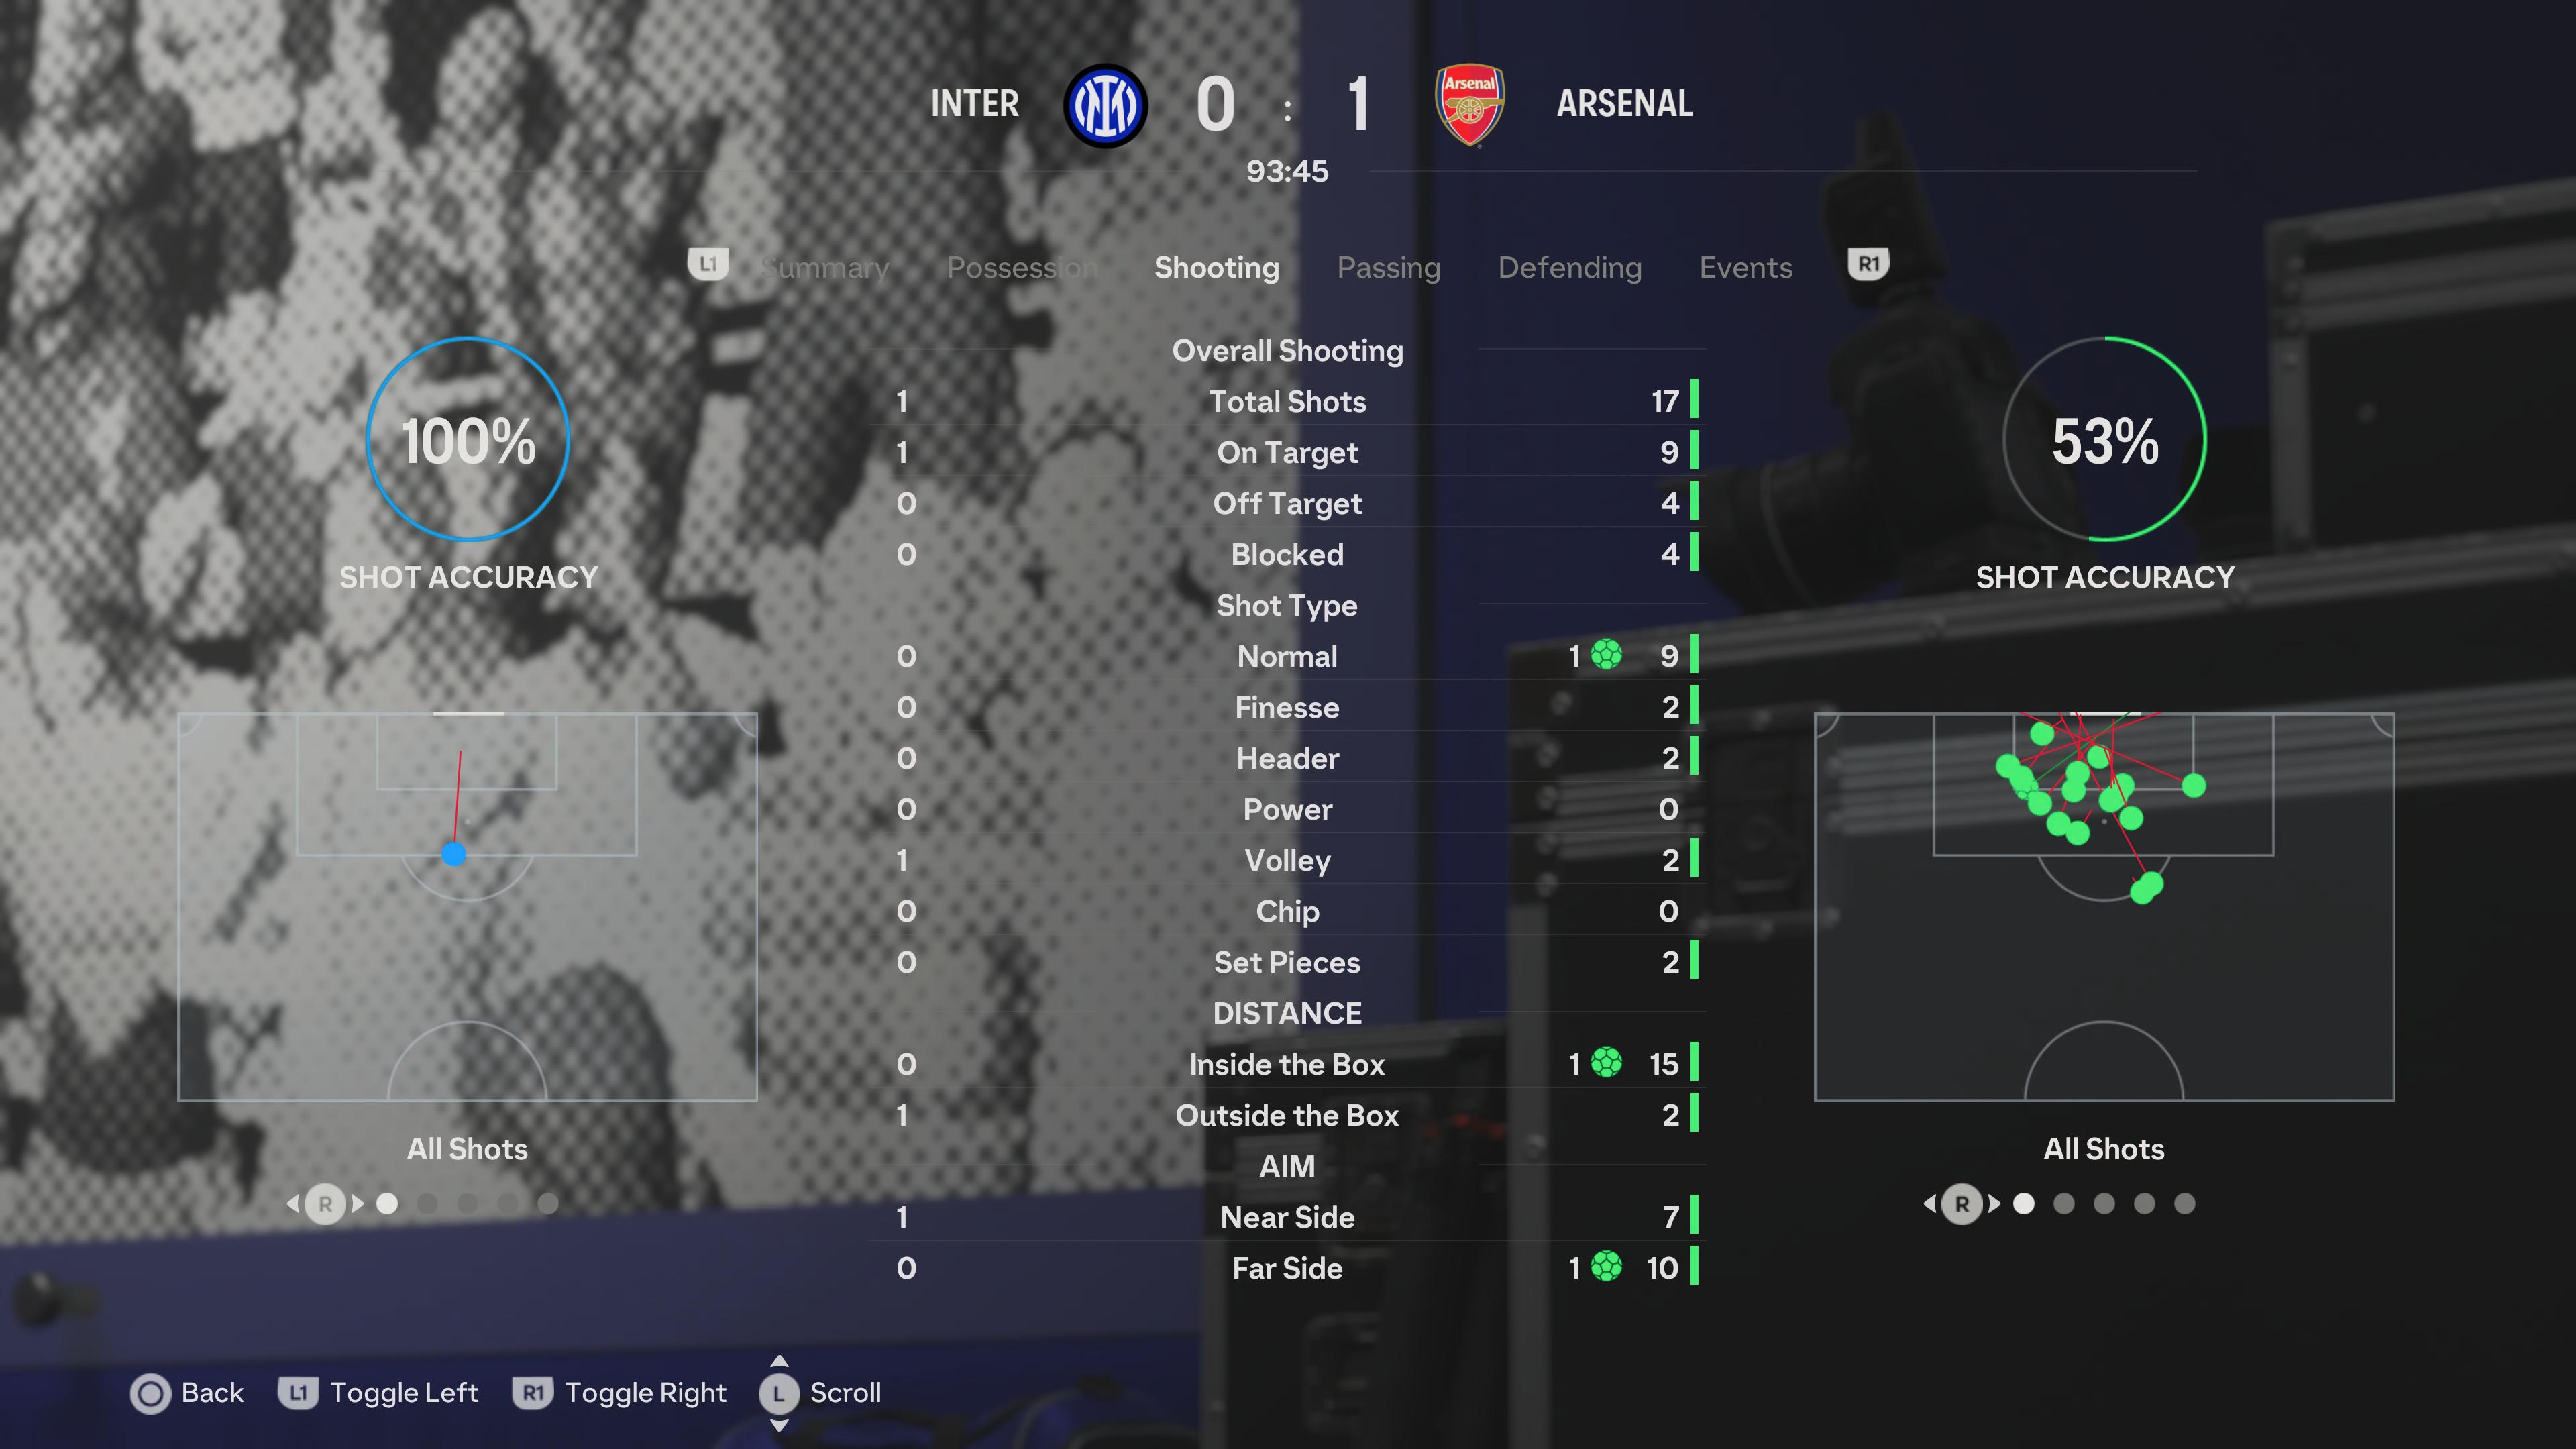BLOCKED_AWAY: (1622, 531, 1688, 582)
BLOCKED_HOME: (890, 522, 952, 591)
CHIP_AWAY: (1628, 888, 1688, 927)
CHIP_GOALS_AWAY: (1532, 888, 1589, 931)
CHIP_GOALS_HOME: (989, 883, 1063, 931)
CHIP_HOME: (890, 883, 948, 932)
FAR_SIDE_AWAY: (1635, 1244, 1686, 1290)
FAR_SIDE_GOALS_AWAY: (1537, 1244, 1587, 1292)
FAR_SIDE_GOALS_HOME: (989, 1244, 1058, 1295)
FAR_SIDE_HOME: (878, 1244, 952, 1297)
FINESSE_AWAY: (1628, 685, 1688, 727)
FINESSE_GOALS_AWAY: (1527, 686, 1589, 727)
FINESSE_GOALS_HOME: (989, 683, 1051, 727)
FINESSE_HOME: (885, 685, 948, 729)
HEADER_AWAY: (1624, 734, 1688, 778)
HEADER_GOALS_AWAY: (1529, 734, 1591, 775)
HEADER_GOALS_HOME: (989, 732, 1054, 782)
HEADER_HOME: (890, 732, 939, 778)
INSIDE_THE_BOX_AWAY: (1629, 1026, 1688, 1085)
INSIDE_THE_BOX_GOALS_AWAY: (1536, 1031, 1587, 1083)
INSIDE_THE_BOX_GOALS_HOME: (991, 1031, 1053, 1085)
INSIDE_THE_BOX_HOME: (886, 1033, 948, 1083)
NEAR_SIDE_AWAY: (1633, 1185, 1684, 1237)
NEAR_SIDE_GOALS_AWAY: (1536, 1182, 1587, 1237)
NEAR_SIDE_GOALS_HOME: (991, 1180, 1056, 1238)
NEAR_SIDE_HOME: (879, 1180, 947, 1238)
NORMAL_AWAY: (1628, 628, 1688, 674)
NORMAL_GOALS_AWAY: (1527, 626, 1589, 676)
NORMAL_GOALS_HOME: (989, 619, 1054, 676)
NORMAL_HOME: (885, 616, 950, 676)
OFF_TARGET_AWAY: (1622, 483, 1688, 522)
OFF_TARGET_HOME: (888, 472, 950, 524)
ON_TARGET_AWAY: (1626, 430, 1690, 472)
ON_TARGET_HOME: (888, 423, 945, 472)
OUTSIDE_THE_BOX_AWAY: (1631, 1092, 1684, 1148)
OUTSIDE_THE_BOX_GOALS_AWAY: (1537, 1092, 1587, 1148)
OUTSIDE_THE_BOX_GOALS_HOME: (993, 1092, 1054, 1148)
OUTSIDE_THE_BOX_HOME: (888, 1092, 950, 1145)
PAGE_ID: (318, 543, 616, 610)
POWER_AWAY: (1626, 787, 1686, 832)
POWER_GOALS_AWAY: (1532, 787, 1591, 830)
POWER_GOALS_HOME: (991, 786, 1056, 830)
POWER_HOME: (892, 780, 947, 828)
SET_PIECES_AWAY: (1629, 939, 1688, 989)
SET_PIECES_GOALS_AWAY: (1536, 941, 1589, 991)
SET_PIECES_GOALS_HOME: (989, 939, 1062, 991)
SET_PIECES_HOME: (892, 941, 948, 989)
TOTAL_SHOTS_AWAY: (1624, 375, 1686, 421)
TOTAL_SHOTS_HOME: (888, 375, 941, 423)
VOLLEY_AWAY: (1628, 840, 1688, 879)
VOLLEY_GOALS_AWAY: (1532, 839, 1591, 879)
VOLLEY_GOALS_HOME: (989, 832, 1062, 881)
VOLLEY_HOME: (888, 830, 947, 879)
